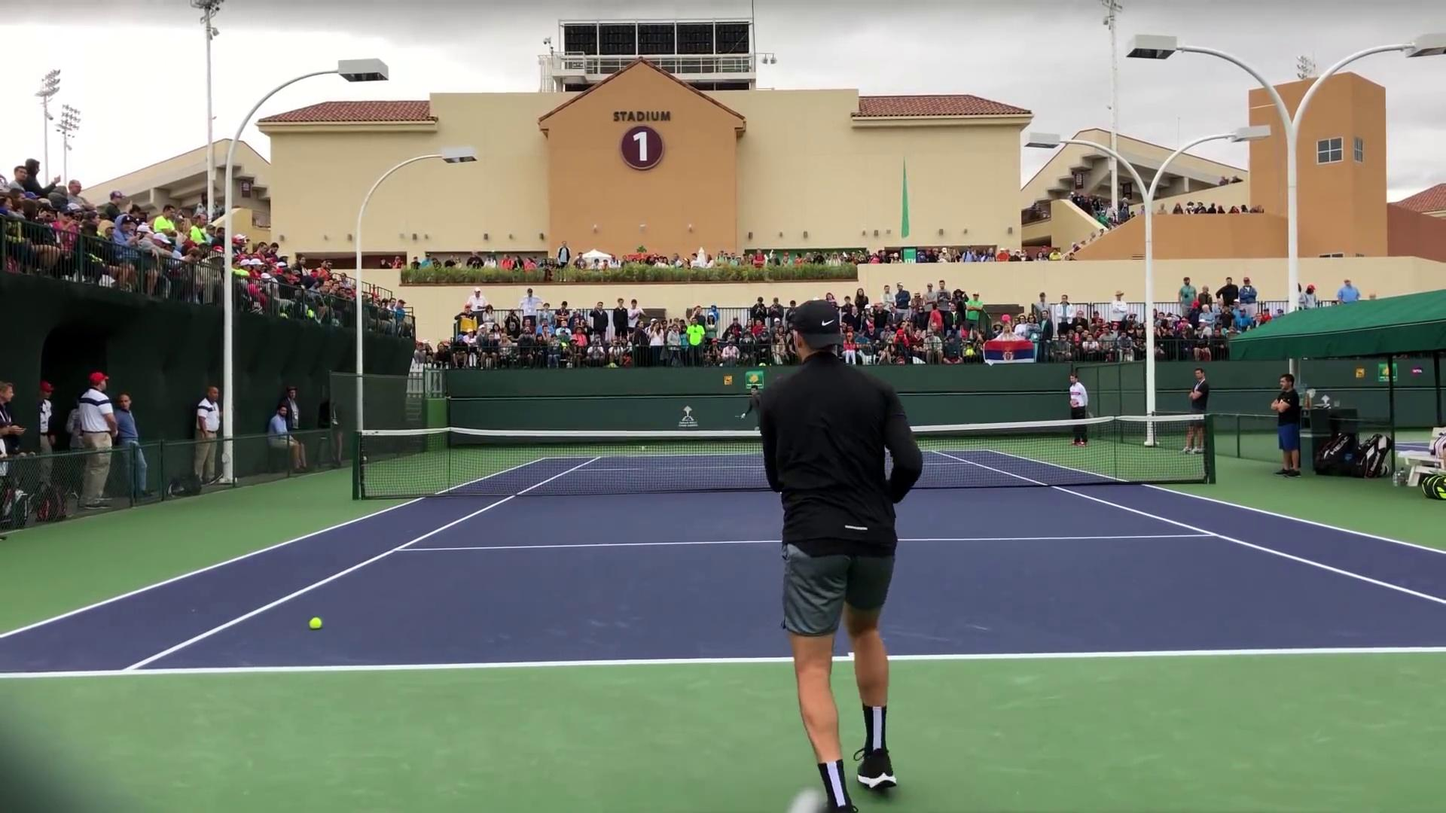ball: (635, 441, 653, 455), (307, 617, 324, 630)
